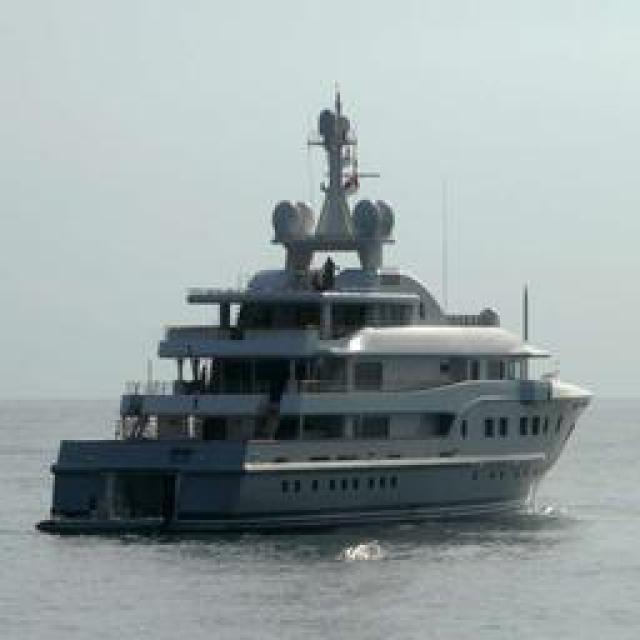Ship: (45, 119, 600, 532)
